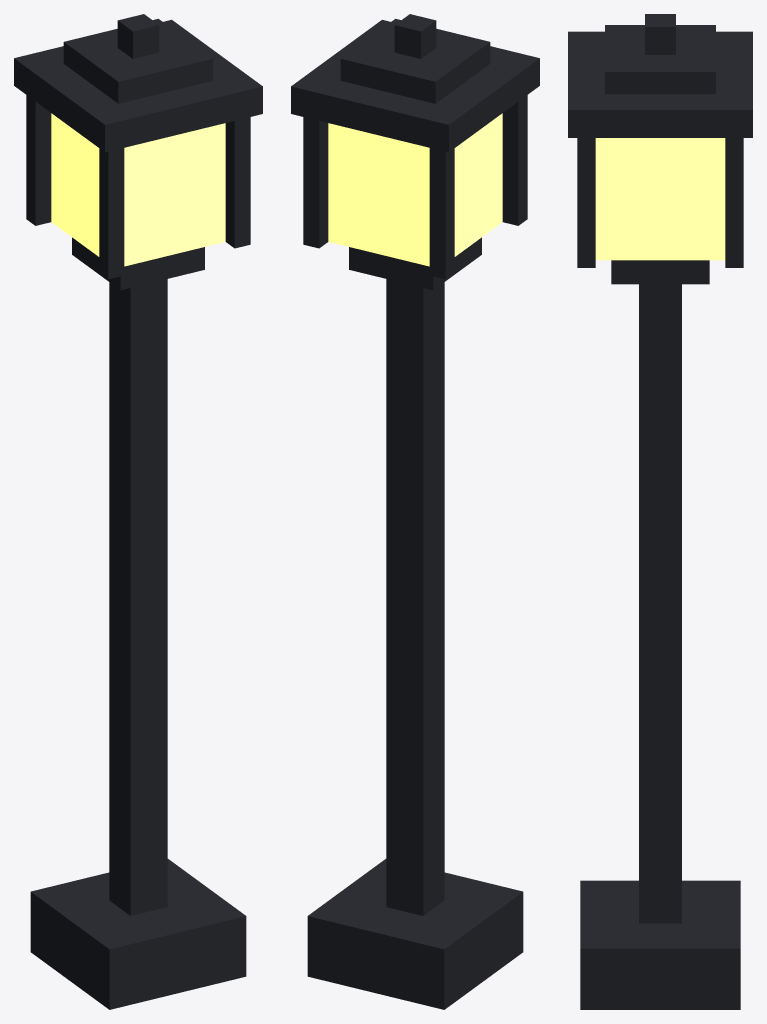
Rendered from street-lantern.glb.
The picture shows the model from 3 angles, left to right: view 1: azimuth 30°, elevation 25°; view 2: azimuth 150°, elevation 25°; view 3: azimuth 270°, elevation 25°; orthographic projection.
Visible parts, largest first — view 1: box-prop; view 2: box-prop; view 3: box-prop.
Boxes of the visible parts, <box> form: box-prop: <box>14,14,262,1009</box>; box-prop: <box>291,14,539,1009</box>; box-prop: <box>568,14,752,1009</box>.
Size of the model in its own units: 0.6 by 3.42 by 0.6.
